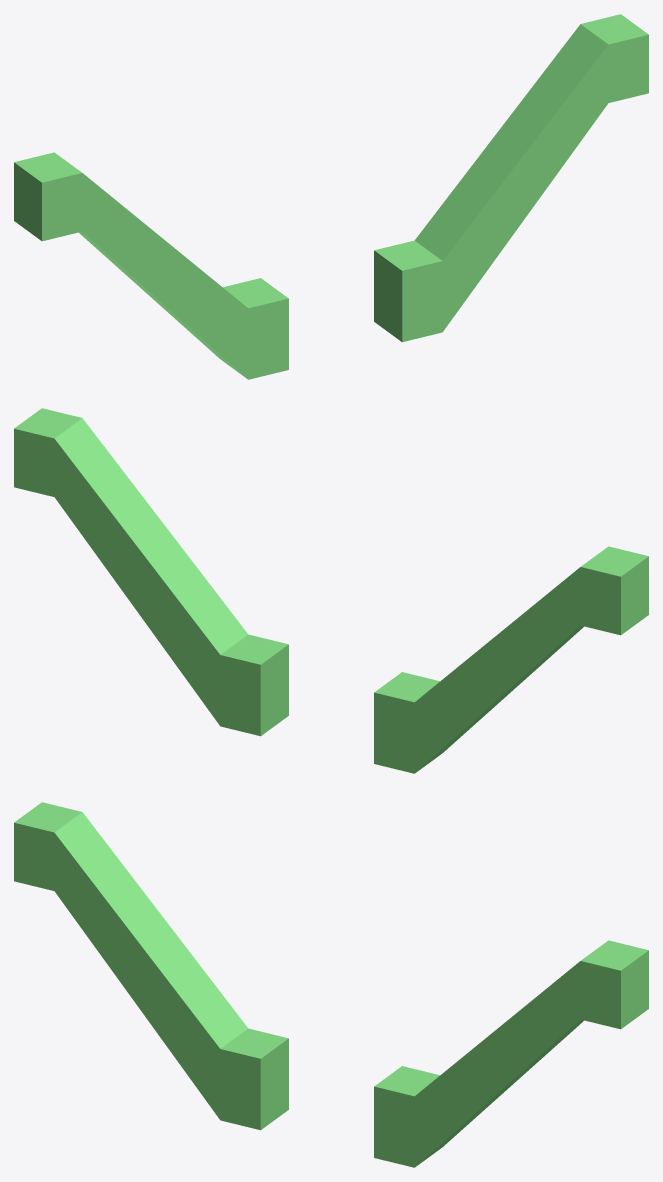
3 renders of one model, top to bottom at view 1: azimuth 30°, elevation 25°; view 2: azimuth 150°, elevation 25°; view 3: azimuth 330°, elevation 25°, orthographic.
Visible parts, largest first — view 1: エスカレーター.027, エスカレーター.026; view 2: エスカレーター.027, エスカレーター.026; view 3: エスカレーター.026, エスカレーター.027.
Boxes of the visible parts, left/top/right/bottom form: エスカレーター.027: left=374, top=14, right=648, bottom=342; エスカレーター.026: left=14, top=152, right=288, bottom=379; エスカレーター.027: left=14, top=408, right=288, bottom=736; エスカレーター.026: left=374, top=546, right=648, bottom=773; エスカレーター.026: left=14, top=802, right=288, bottom=1130; エスカレーター.027: left=374, top=940, right=648, bottom=1167.
Size of the model in its own units: 3000 by 1169 by 240.
